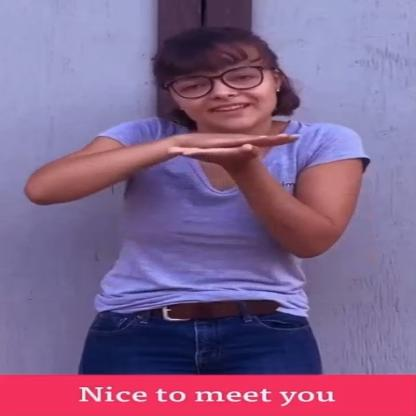NiceToMeetYou: (23, 22, 386, 367)
